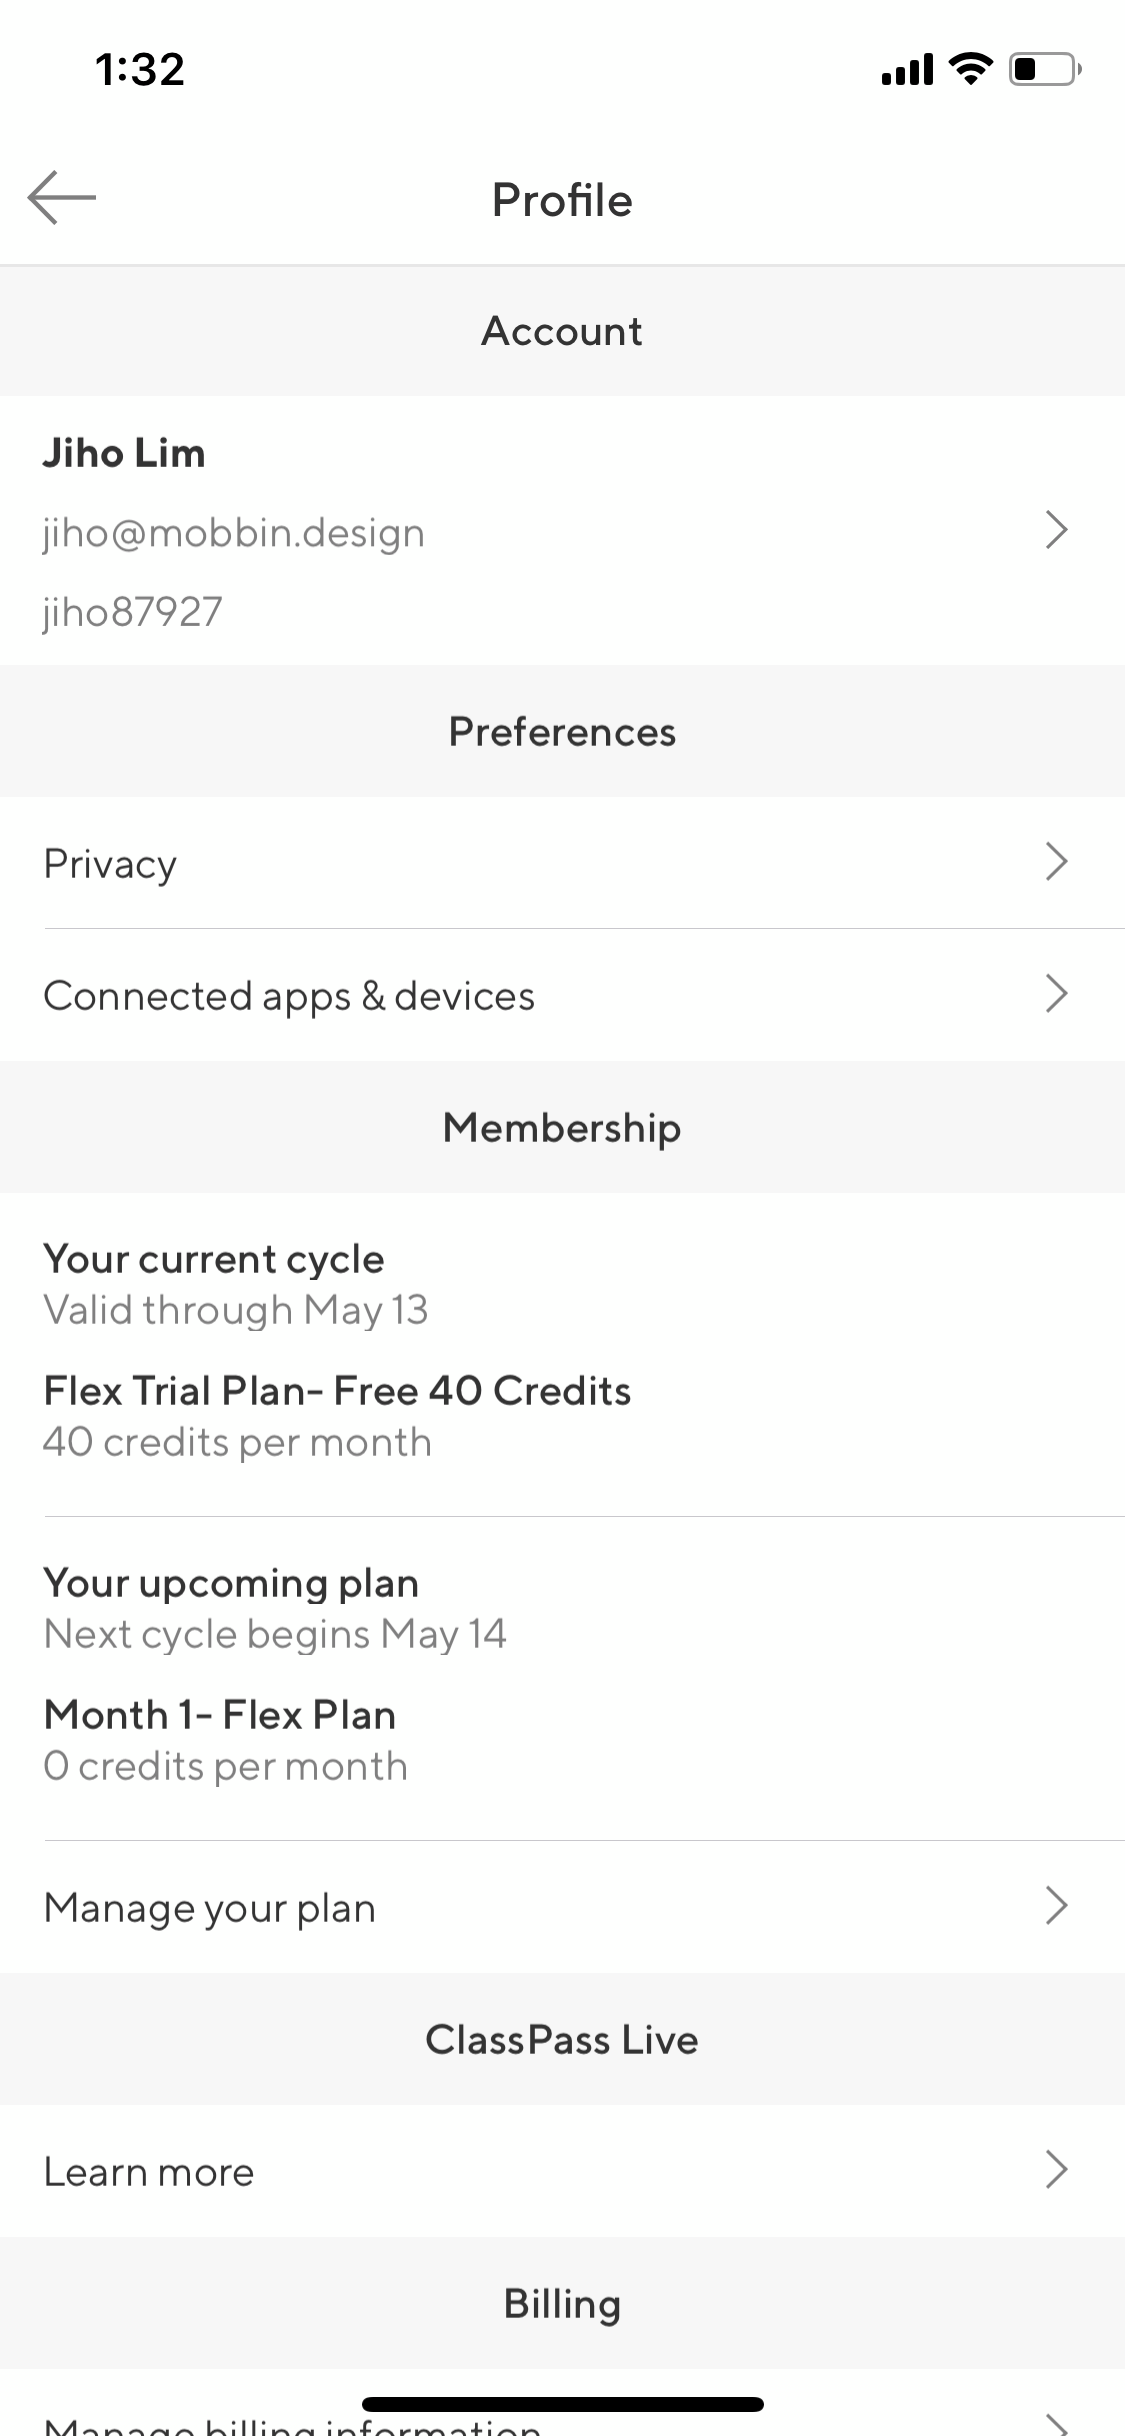Buttons: (2, 127, 124, 252)
